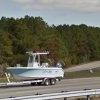Boat: (5, 49, 67, 85)
